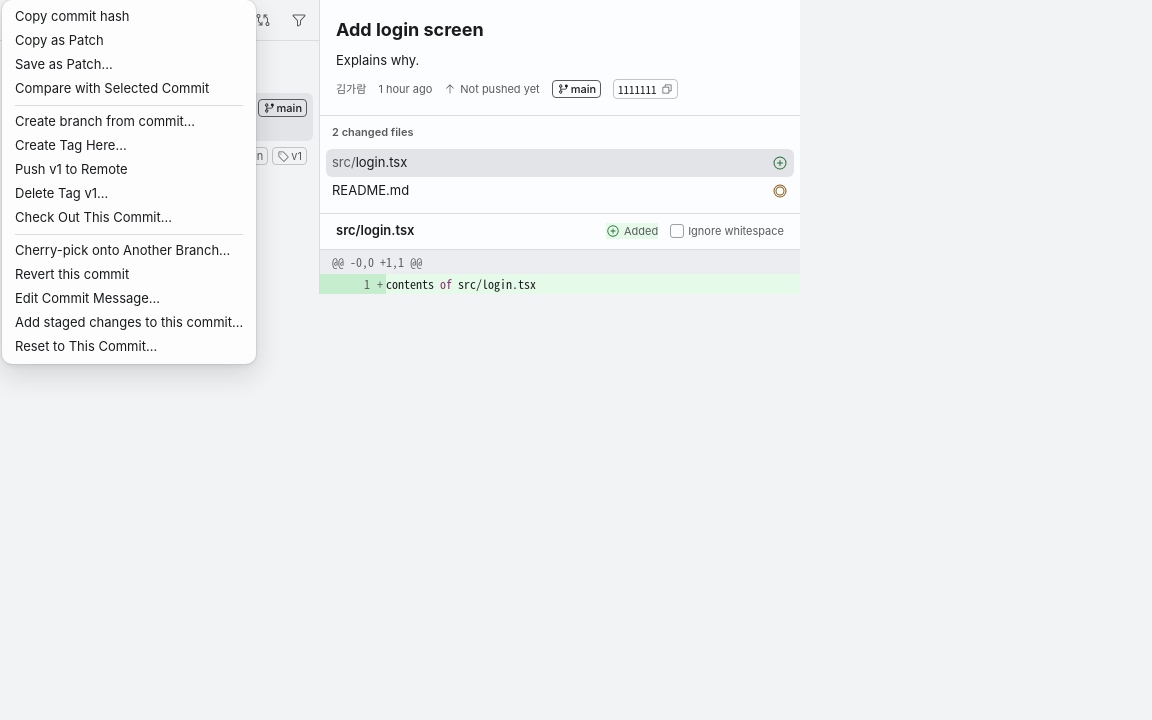
Test: HistoryView › leaves the dialog on a stale head and opens Changes when a saved fixup stops
Click the menu item "Add staged changes to this commit…": (129, 323) [7, 311, 251, 335]
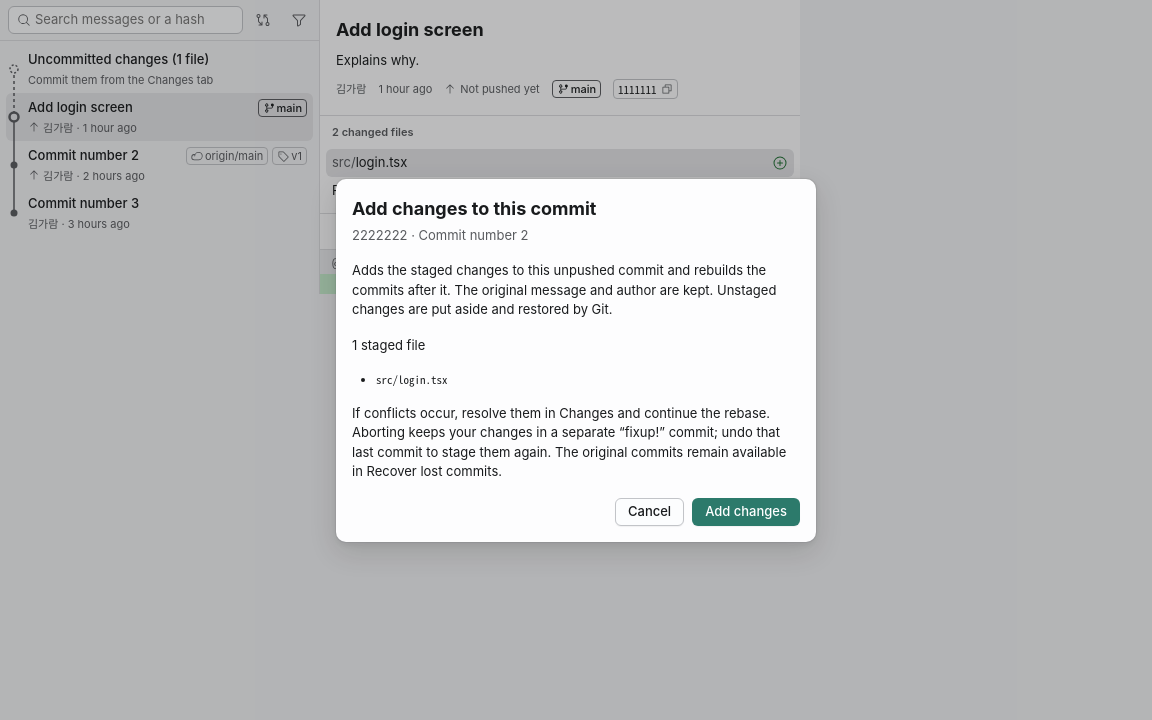
Expected: the list item "src/login.tsx" is shown, [376, 371, 448, 387]
Click the button "Add changes": (746, 512) [692, 498, 800, 526]
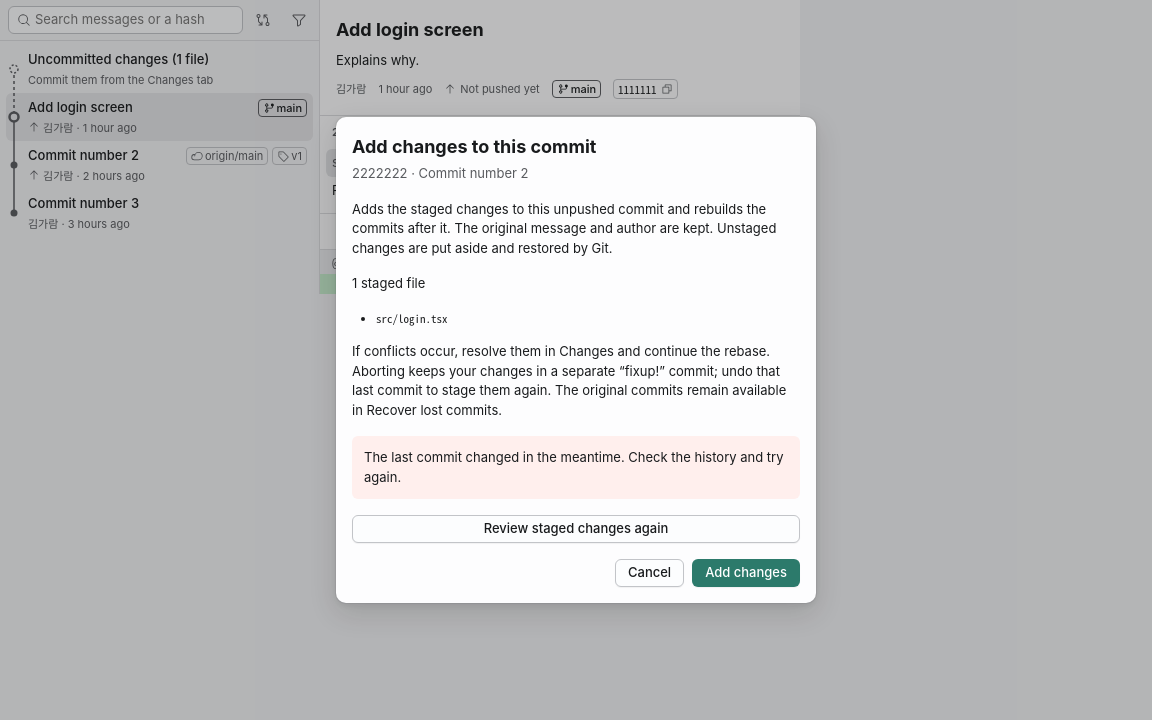
Expected: the message shows "The last commit changed", [364, 449, 784, 484]
Click the button "Add changes": (746, 573) [692, 559, 800, 587]
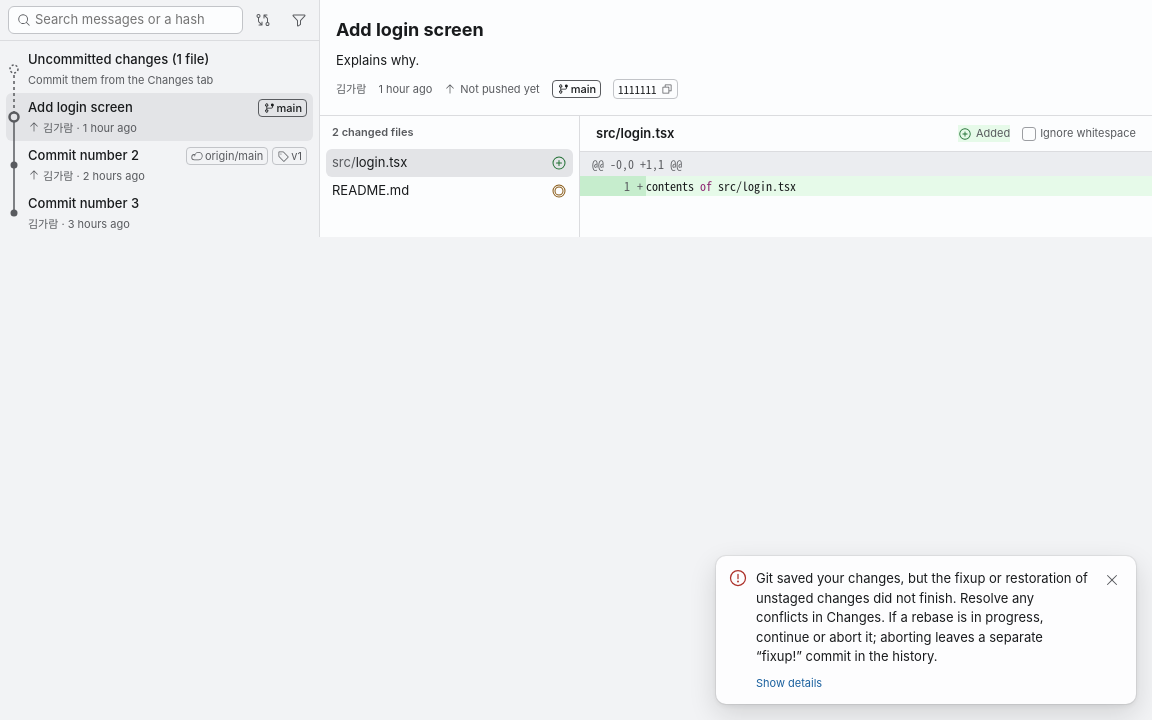
Expected: the dialog is gone
Expected: the text "Git saved your changes, but the fixup" is shown, [756, 570, 1088, 664]
